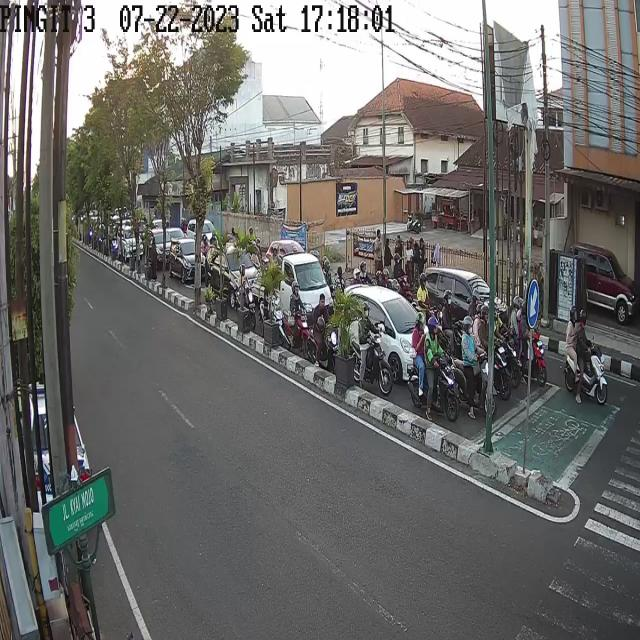car: (338, 284, 429, 383), (419, 268, 509, 334), (575, 244, 638, 326), (206, 241, 260, 308), (169, 236, 207, 288), (183, 217, 223, 247), (117, 224, 144, 268), (144, 230, 172, 268)
motorcycle: (404, 312, 457, 418), (447, 313, 495, 416), (563, 307, 608, 408), (351, 303, 392, 394), (511, 294, 548, 384), (307, 294, 338, 376), (284, 280, 309, 355), (261, 268, 282, 342), (236, 263, 256, 331)
truck: (249, 250, 333, 330)
